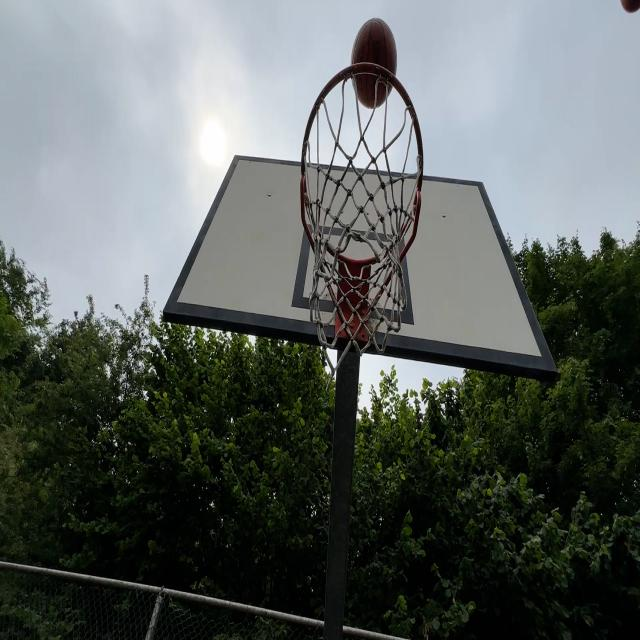rebound_hit: (352, 18, 397, 109)
